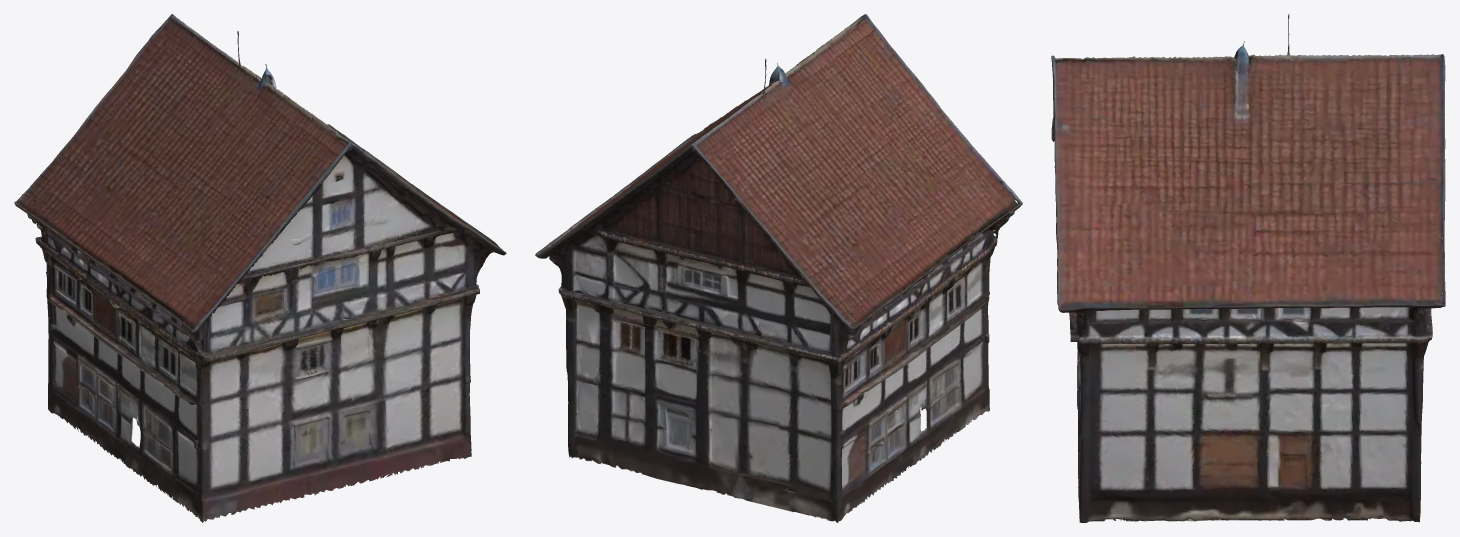
Rendered from building 10.glb.
The picture shows the model from 3 angles, left to right: view 1: azimuth 30°, elevation 25°; view 2: azimuth 150°, elevation 25°; view 3: azimuth 270°, elevation 25°; orthographic projection. The views are drawn at different scales.
Bounding box in the file's own units: 1.72 × 2 × 1.65.
Materials: 1 (1 with a texture image).
